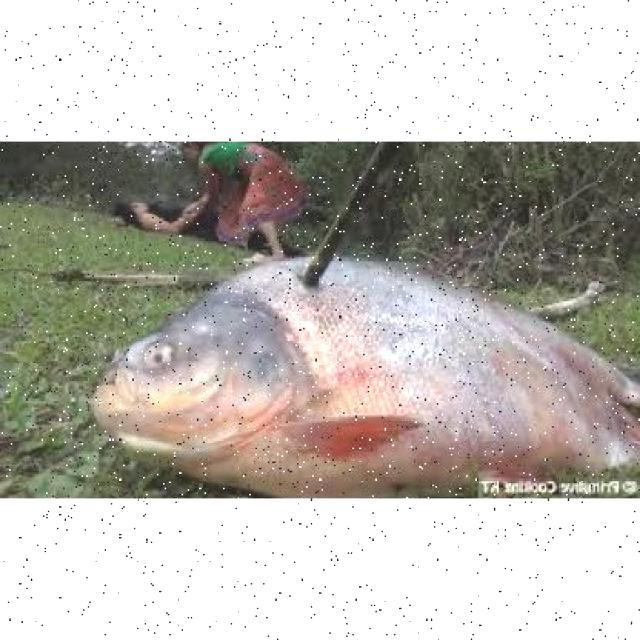ikan-pacu: (114, 253, 640, 476)
